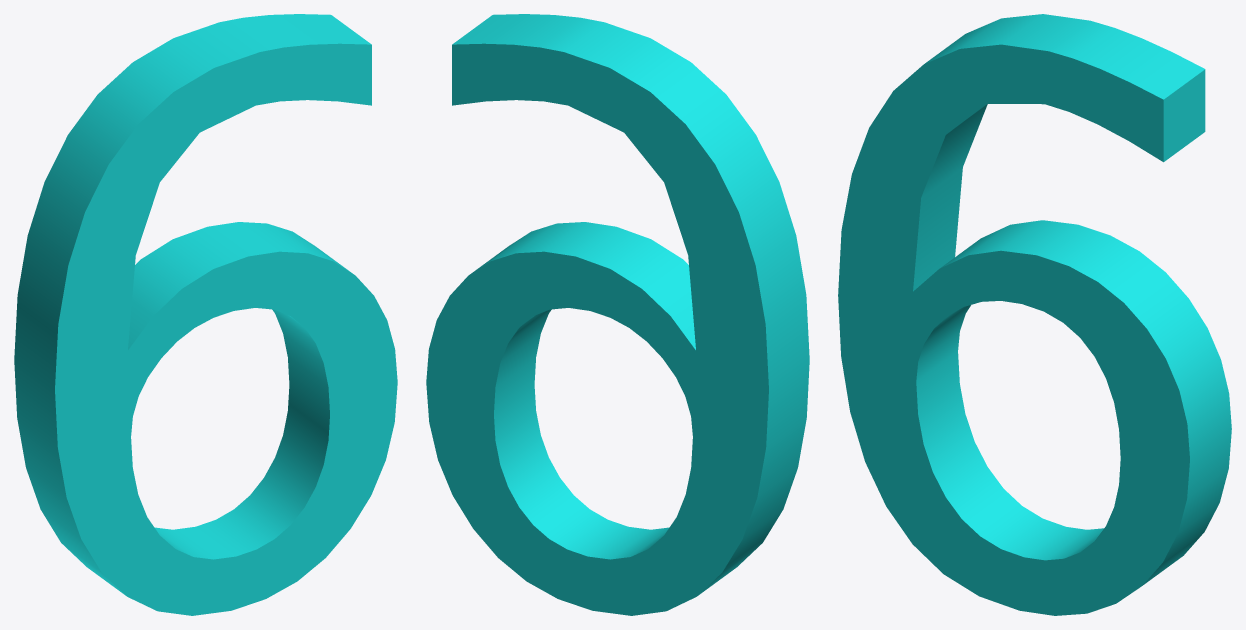
Rendered from altı.fbx.
3 views of the same model, side by side, from view 1: azimuth 30°, elevation 25°; view 2: azimuth 150°, elevation 25°; view 3: azimuth 330°, elevation 25° (orthographic). The views are drawn at different scales.
Visible parts, largest first — view 1: typeMesh1; view 2: typeMesh1; view 3: typeMesh1.
Part boxes in pixels (x1,y1,x2,y2): typeMesh1: [14, 14, 397, 615]; typeMesh1: [426, 14, 809, 615]; typeMesh1: [838, 14, 1231, 615].
Size of the model in its own units: 7 by 10.77 by 1.44.
